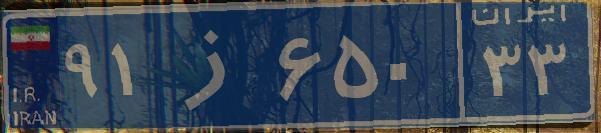0: (385, 28, 445, 110)
1: (110, 28, 158, 105)
3: (475, 38, 525, 113), (525, 38, 570, 115)
5: (330, 28, 385, 110)
6: (273, 28, 330, 110)
9: (57, 26, 110, 107)
ز: (158, 15, 273, 115)
